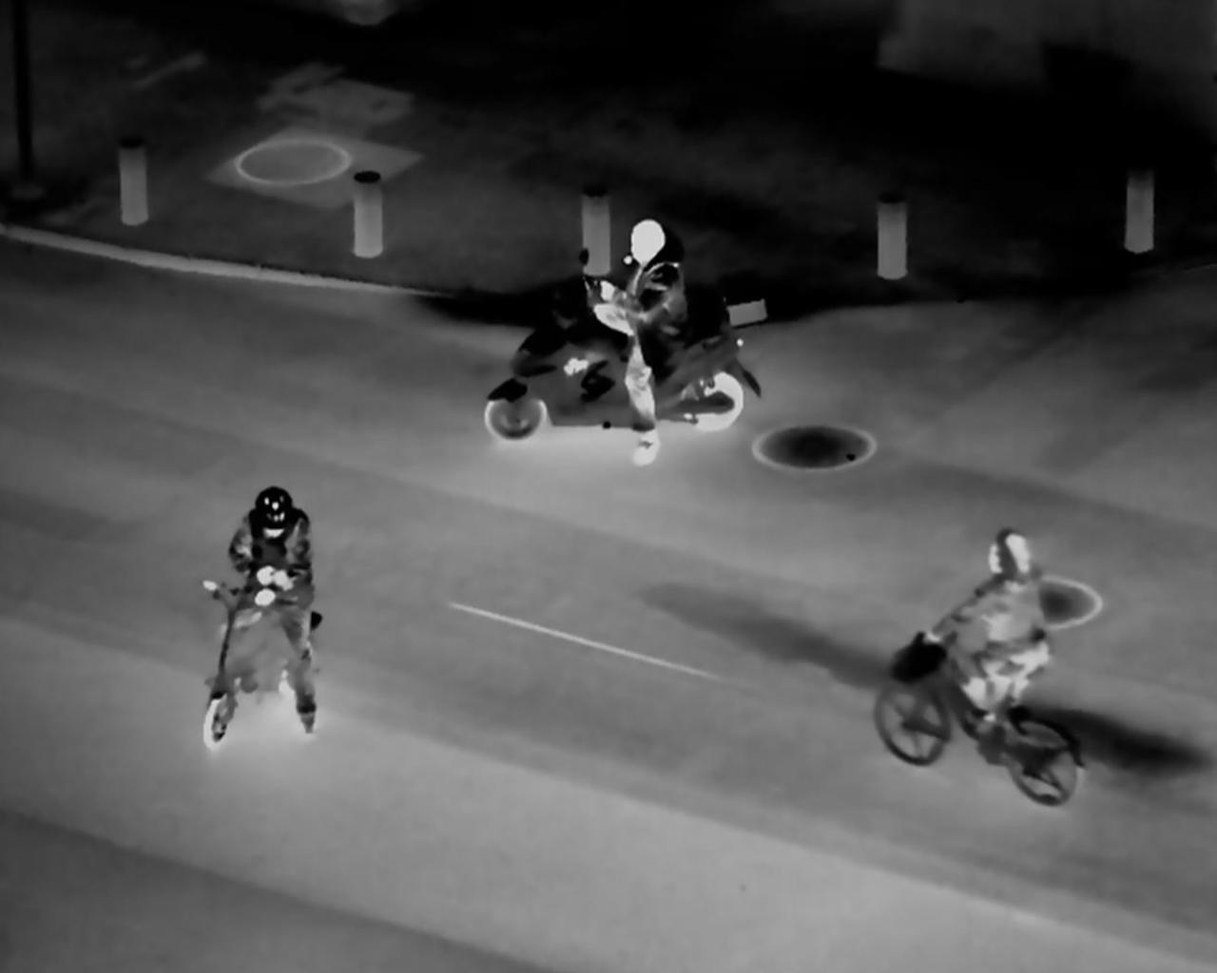person: (206, 476, 325, 744), (940, 506, 1054, 754), (586, 204, 688, 454)
